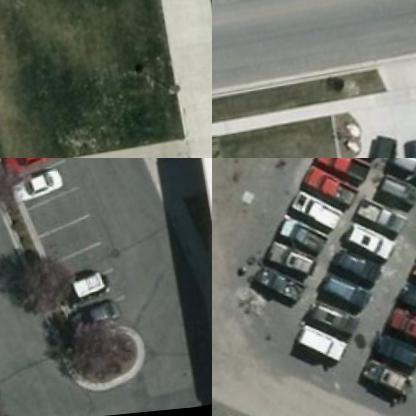car: (296, 162, 352, 216), (282, 186, 338, 239), (310, 266, 362, 317), (298, 294, 350, 345), (287, 317, 339, 368), (364, 323, 416, 374), (353, 354, 405, 405), (244, 262, 294, 314), (354, 192, 404, 244), (341, 217, 391, 268), (326, 240, 376, 291), (270, 208, 320, 258), (261, 236, 311, 286), (368, 167, 415, 218), (0, 166, 56, 206), (56, 298, 112, 337), (46, 272, 102, 310), (310, 158, 367, 192), (378, 298, 415, 350), (390, 274, 415, 325), (382, 158, 415, 190), (0, 158, 51, 177), (345, 141, 394, 157), (402, 247, 415, 299)
